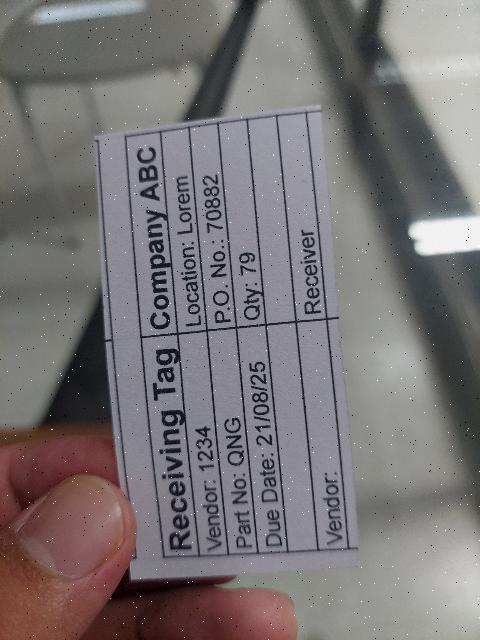PO no: (189, 124, 237, 332)
part no: (208, 329, 260, 555)
qty: (219, 120, 265, 328)
tags: (96, 106, 357, 582)
